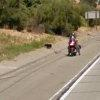Motorcycle: (65, 32, 82, 58)
